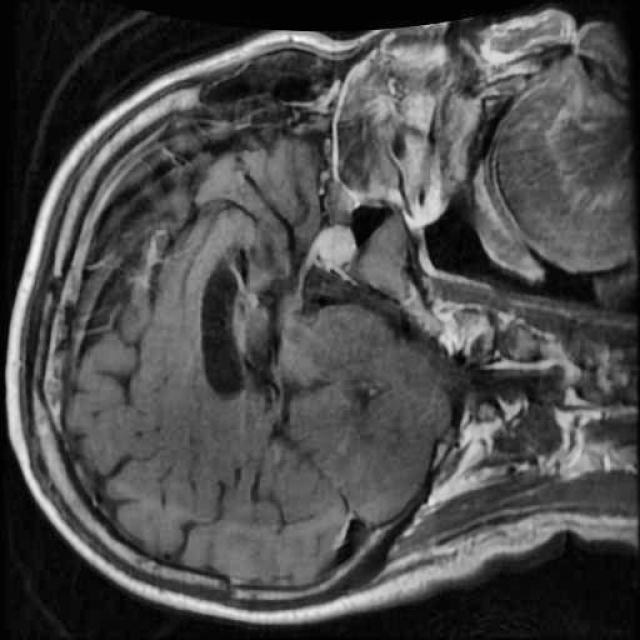Tumor: (302, 213, 374, 282)
